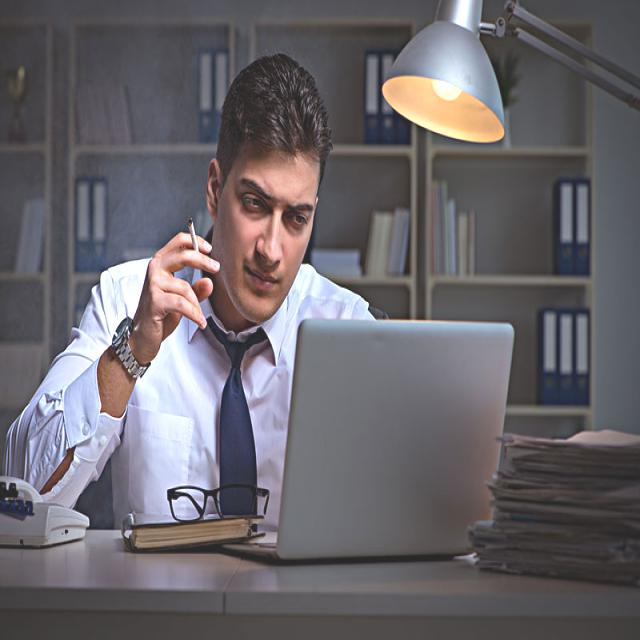smoke: (186, 215, 202, 261)
